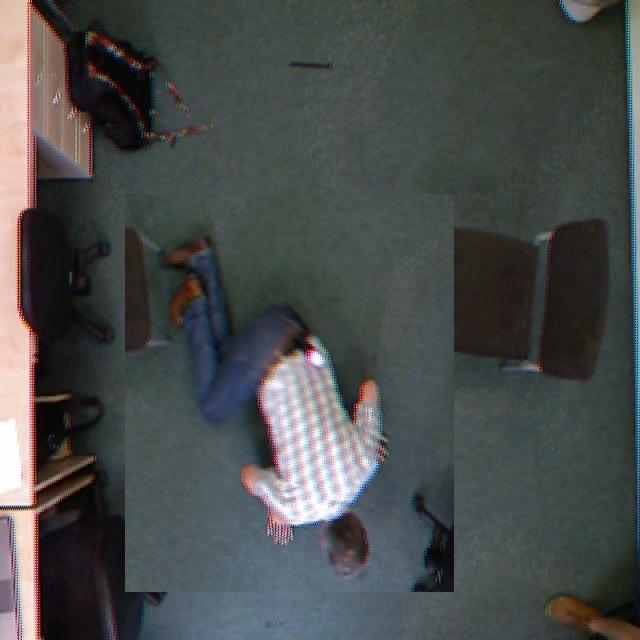Fall: (127, 224, 445, 627)
